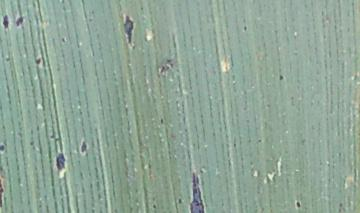tarspot: (187, 172, 206, 213), (122, 14, 137, 47), (54, 151, 69, 178), (1, 174, 6, 207), (1, 12, 10, 30), (15, 14, 24, 28), (79, 139, 87, 154), (1, 142, 6, 154), (35, 57, 42, 65), (278, 73, 285, 81), (294, 200, 301, 208), (60, 36, 67, 44), (28, 140, 35, 147), (158, 117, 164, 125), (5, 56, 11, 63), (337, 202, 344, 208), (151, 204, 157, 210), (256, 138, 262, 144), (177, 197, 182, 204), (49, 134, 55, 139), (242, 25, 247, 31), (337, 208, 343, 213), (232, 142, 236, 148)
